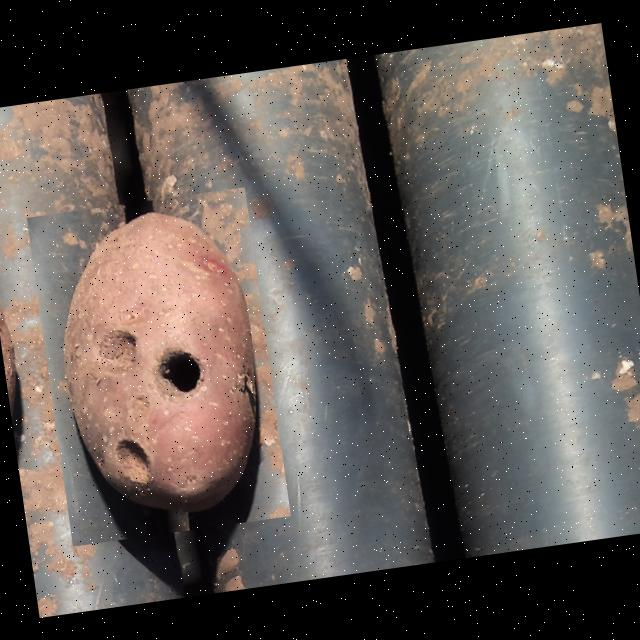Diseased-fungal potato: (26, 188, 290, 546)
